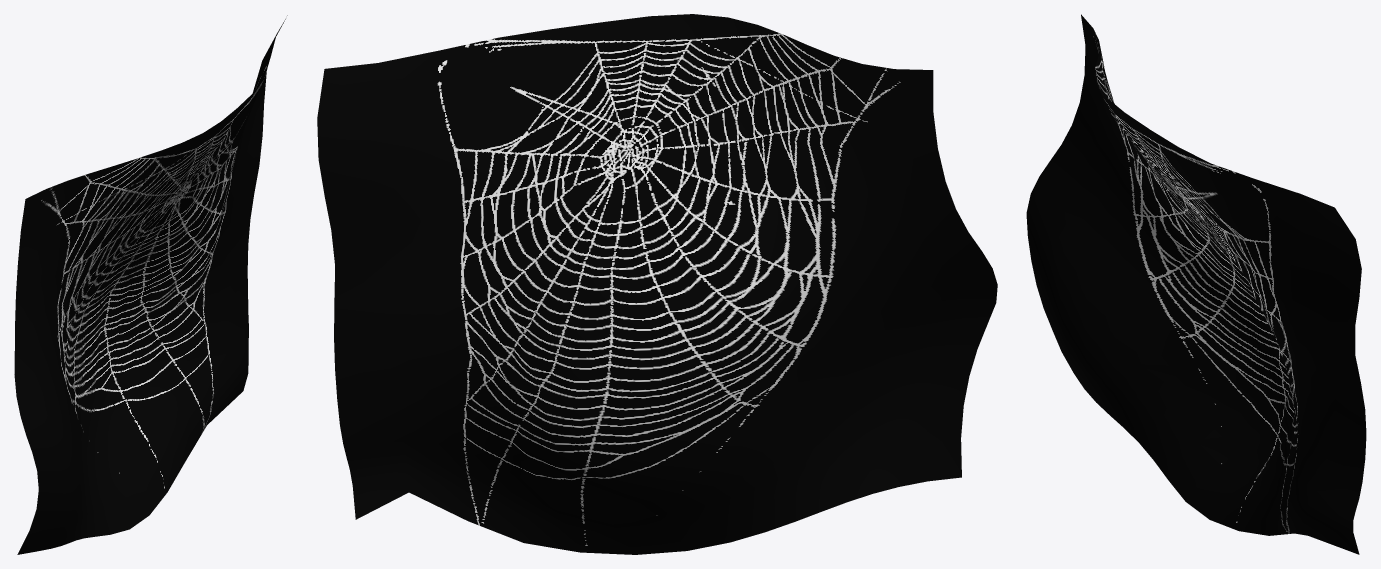
The model's file is Spiderweb_01.fbx.
The picture shows the model from 3 angles, left to right: view 1: azimuth 30°, elevation 25°; view 2: azimuth 150°, elevation 25°; view 3: azimuth 270°, elevation 25°; orthographic projection. The views are drawn at different scales.
Visible parts, largest first — view 1: Plane; view 2: Plane; view 3: Plane.
Boxes of the visible parts, x1,y1,x2,y2 form: Plane: [14, 15, 287, 554]; Plane: [317, 14, 997, 554]; Plane: [1026, 14, 1366, 554].
Bounding box in the file's own units: 27.12 × 25.96 × 18.89.
